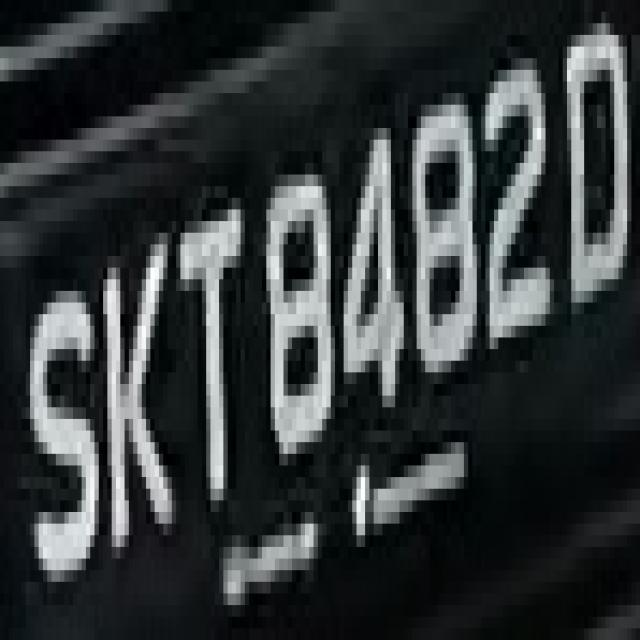2: (472, 12, 562, 349)
4: (318, 105, 408, 419)
8: (412, 70, 486, 419), (258, 174, 339, 466)
D: (554, 23, 632, 303)
K: (90, 233, 172, 593)
S: (13, 256, 99, 570)
T: (155, 210, 249, 558)
